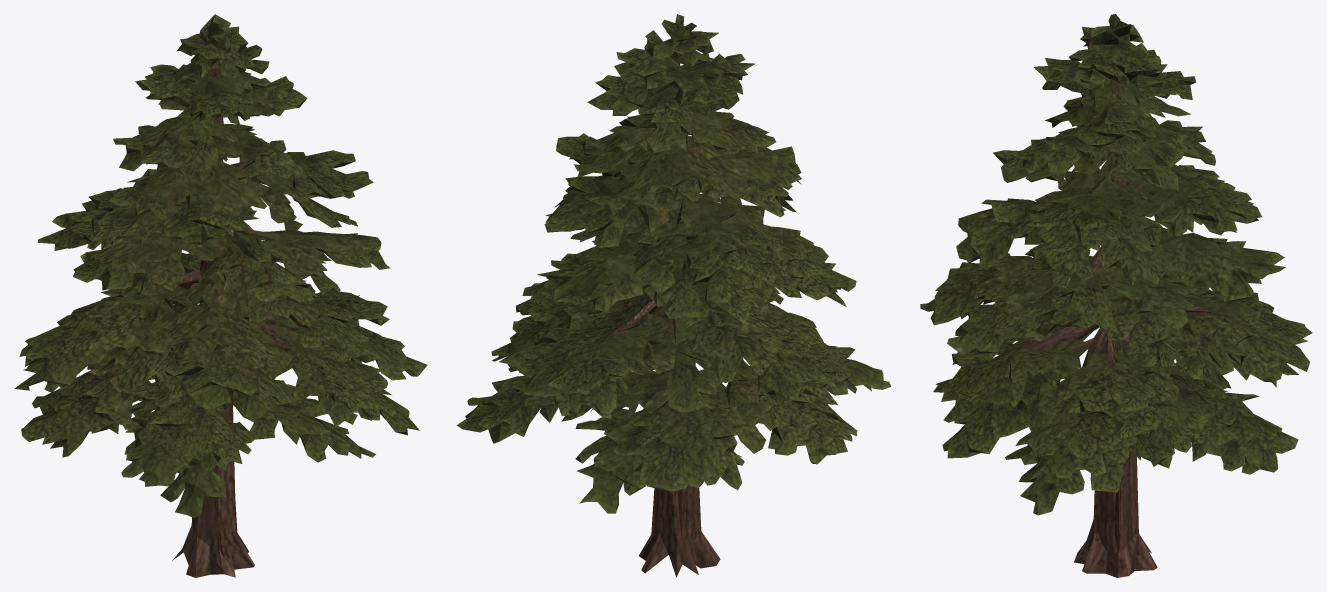
Rendered from Meshy_AI_Lone_Evergreen_1109134311_texture.glb.
3 renders of one model, left to right at view 1: azimuth 30°, elevation 25°; view 2: azimuth 150°, elevation 25°; view 3: azimuth 270°, elevation 25°, orthographic.
Parts seen in each view (by area): view 1: output_unwrapped; view 2: output_unwrapped; view 3: output_unwrapped.
Boxes of the visible parts, box(x1,y1,x2,y2) form: output_unwrapped: box(14, 14, 427, 577); output_unwrapped: box(456, 14, 891, 577); output_unwrapped: box(920, 14, 1312, 577).
Size of the model in its own units: 1.32 by 1.89 by 1.23.
Materials: 1 (1 with a texture image).
